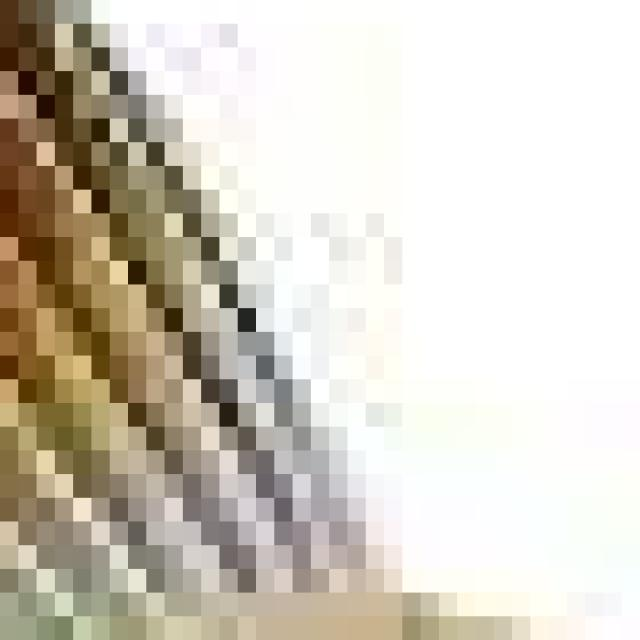fish: (0, 0, 622, 640)
